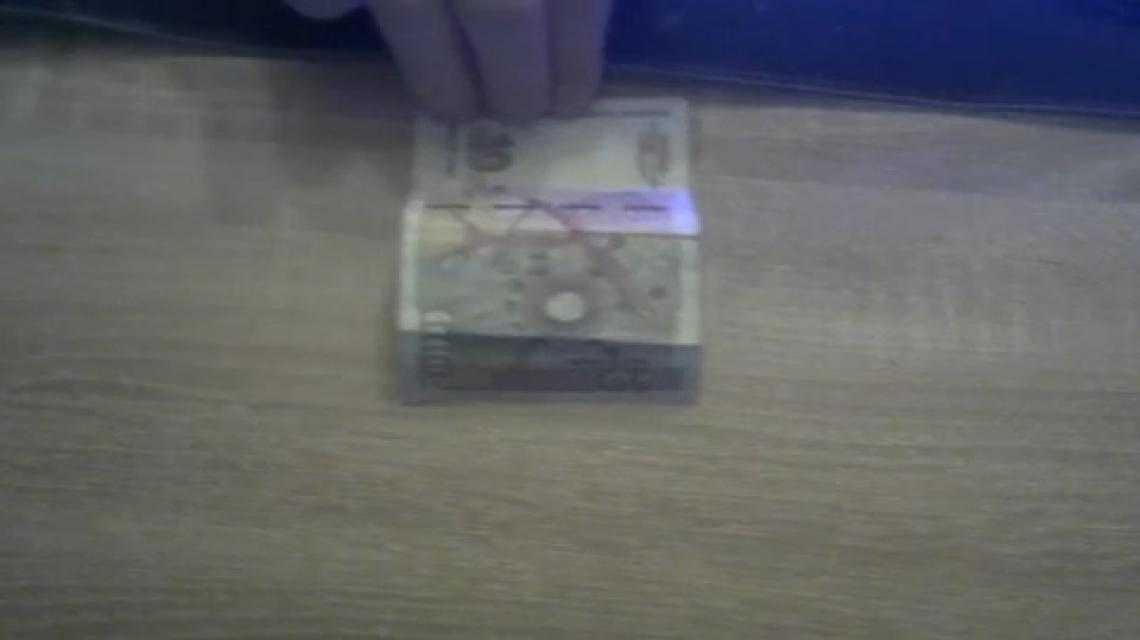10leva: (394, 98, 705, 407)
